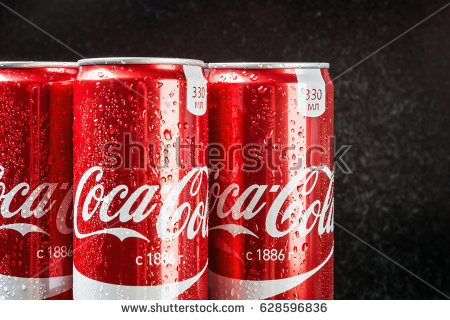coke: (76, 61, 209, 295), (205, 63, 335, 296), (1, 61, 77, 297)
